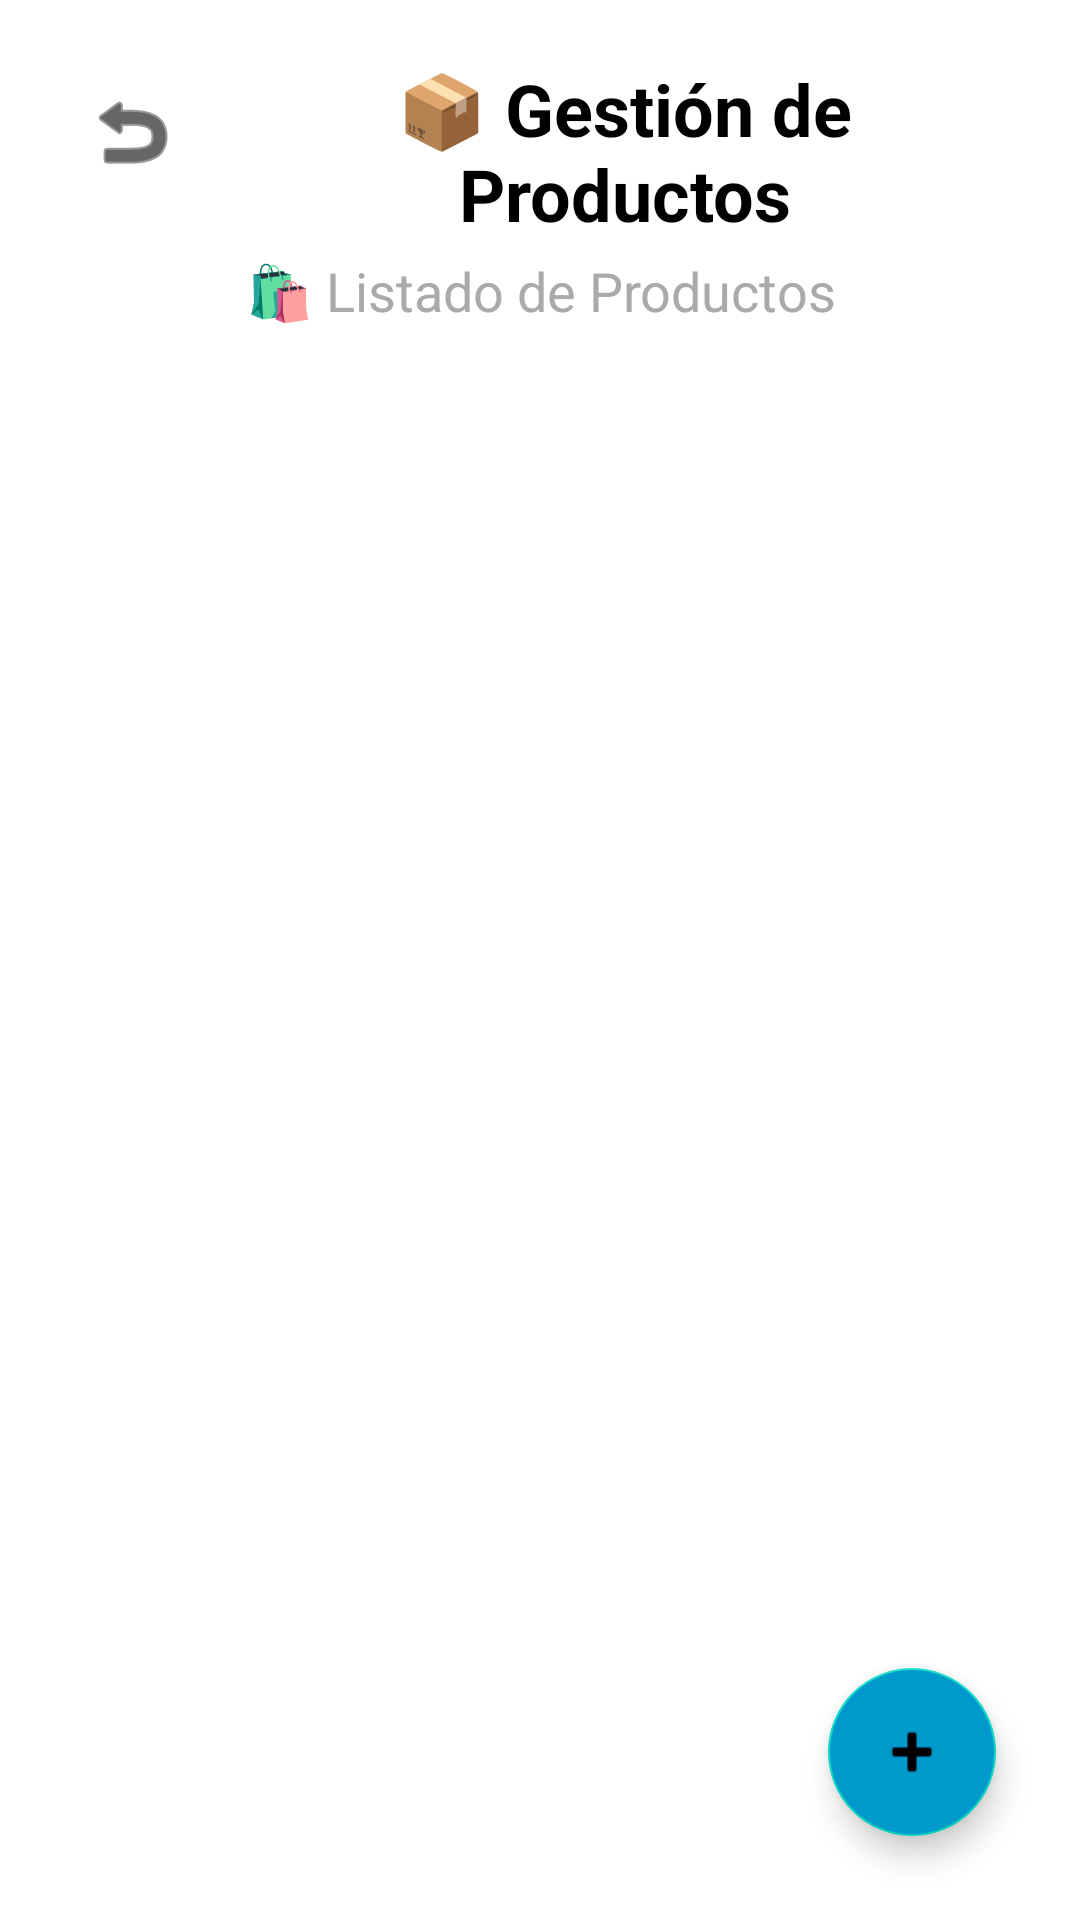

Icons on this 1080×1920 Android screen, each with its box as region(x1, y1, x2, y2):
Agregar producto: region(828, 1668, 996, 1836)
Volver: region(99, 101, 168, 164)
